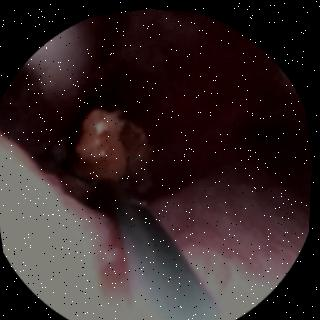stone: (62, 105, 152, 194)
tissue: (0, 9, 312, 320)
